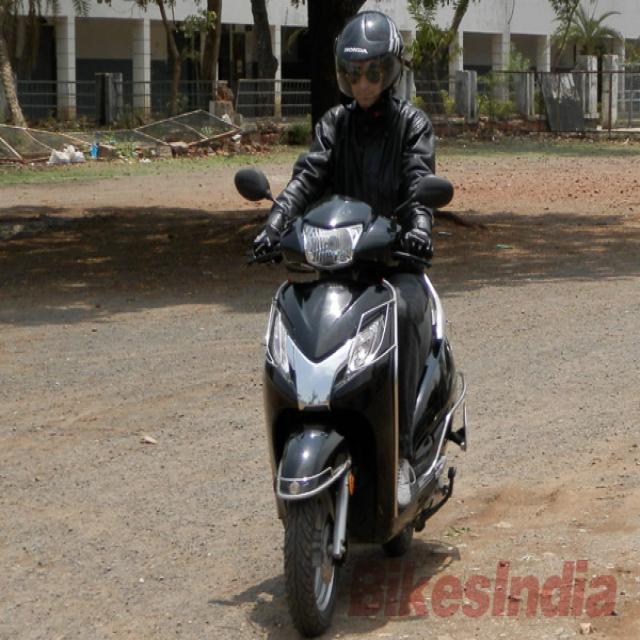helmet: (333, 8, 407, 108)
